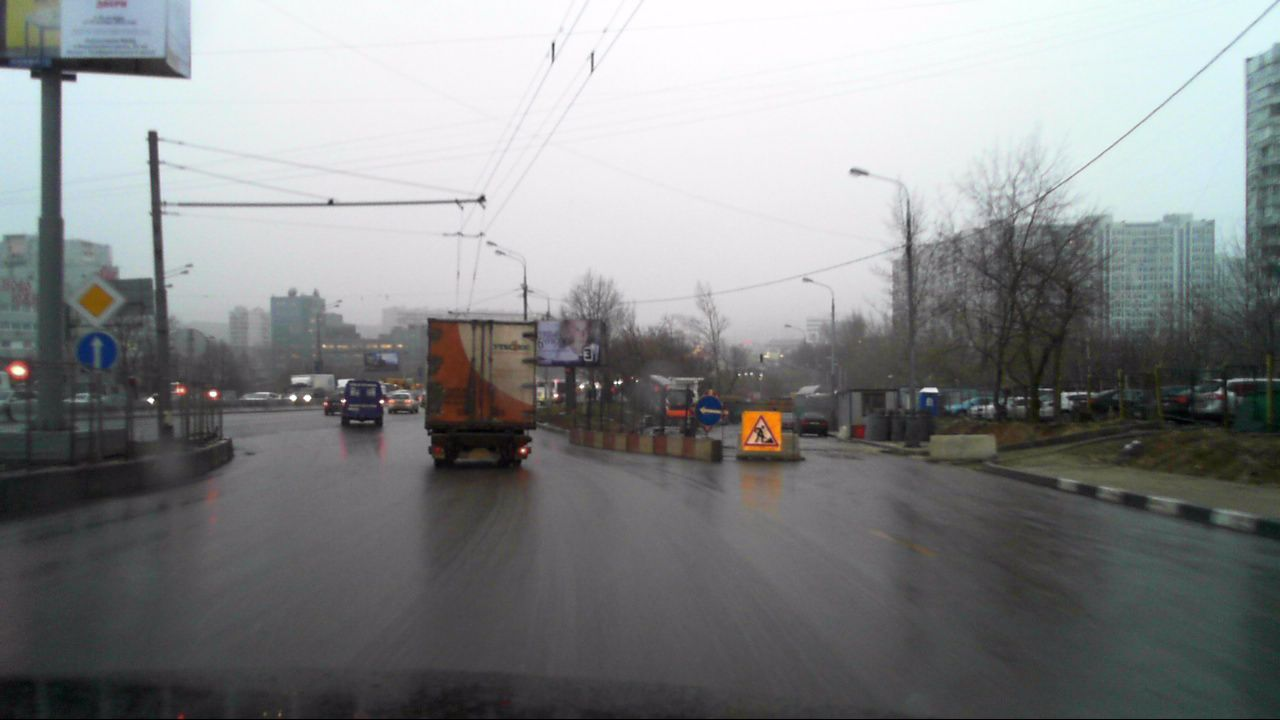Turn Left: (696, 396, 723, 425)
